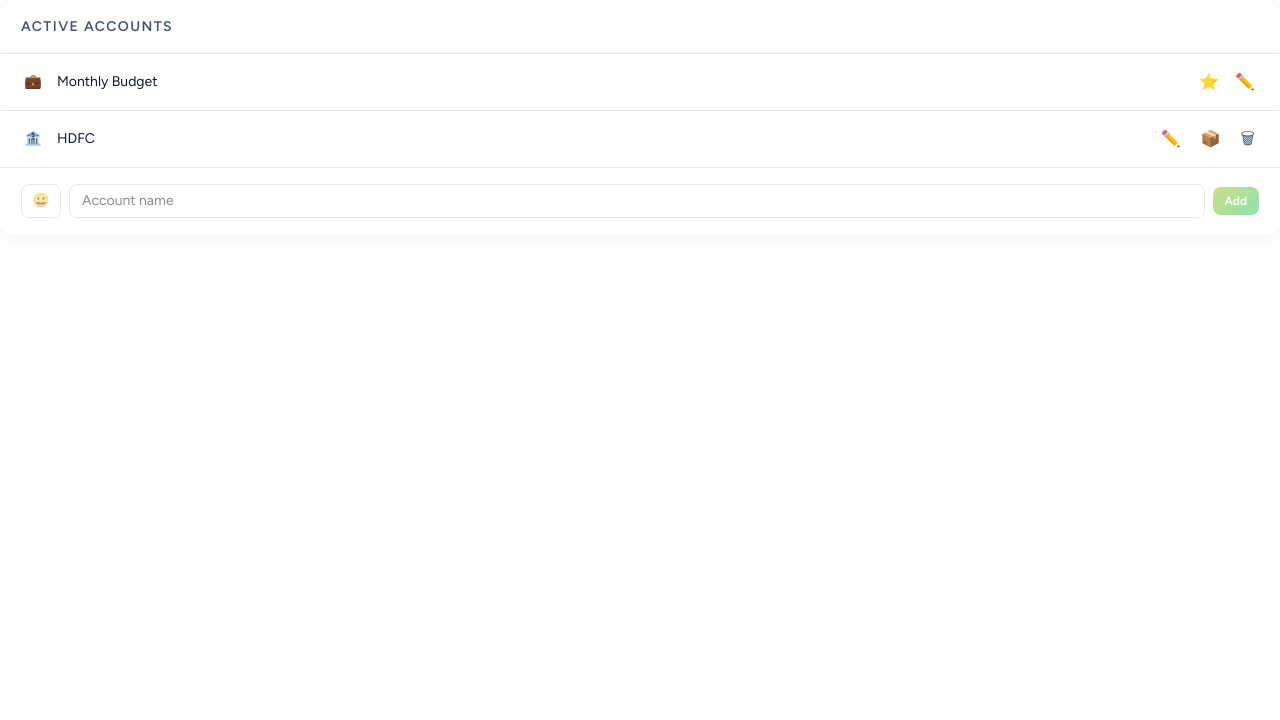
Test: AccountsTab — rename modal › does NOT show rename modal when only emoji changes
The image size is (1280, 720).
Click the button named "Edit HDFC".
click(1171, 139)  # box [1157,123,1185,155]
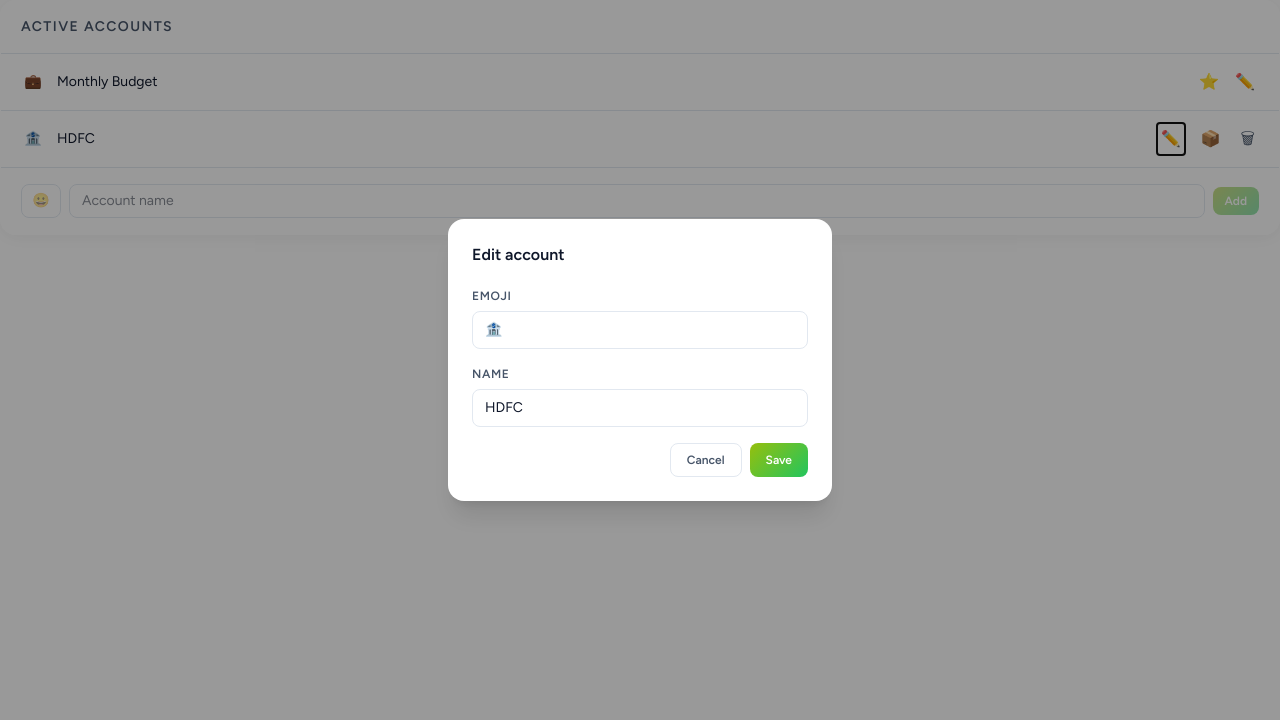
Replace the text in the field named "Emoji" with "💰" at (640, 330), box [472,311,808,349]
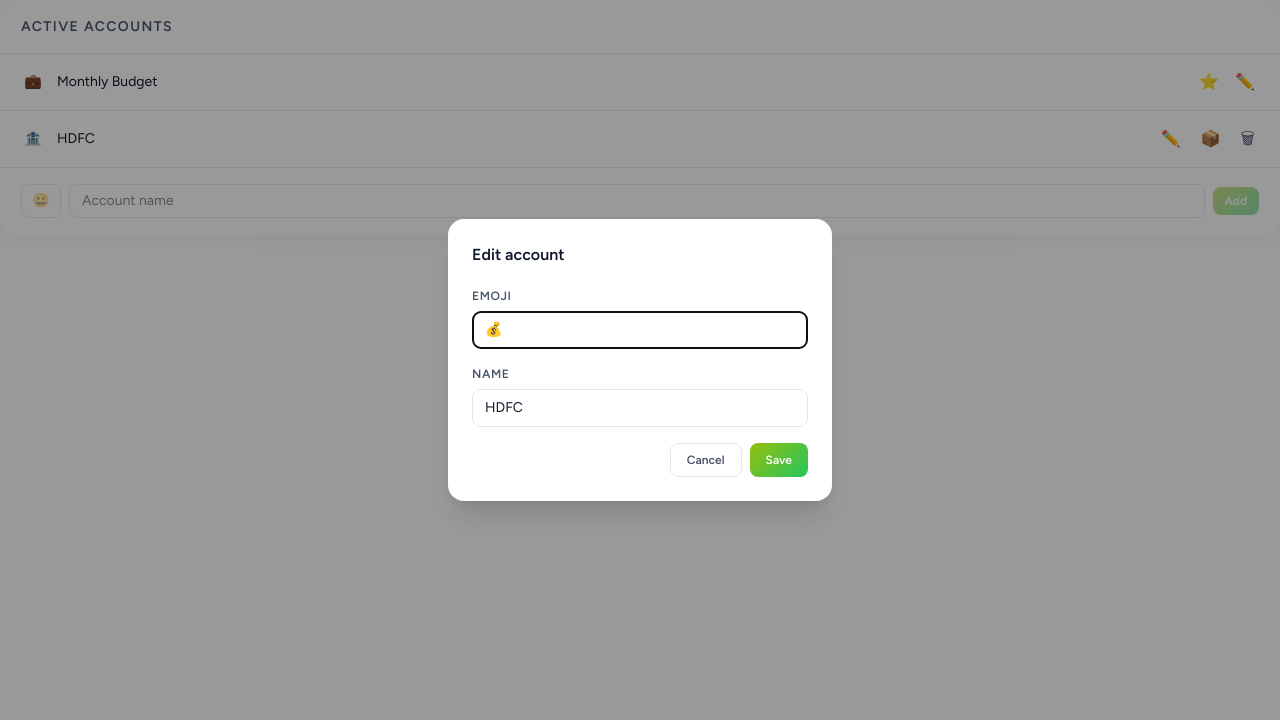
Click the button "Save".
click(779, 460)  # box [750,443,808,477]
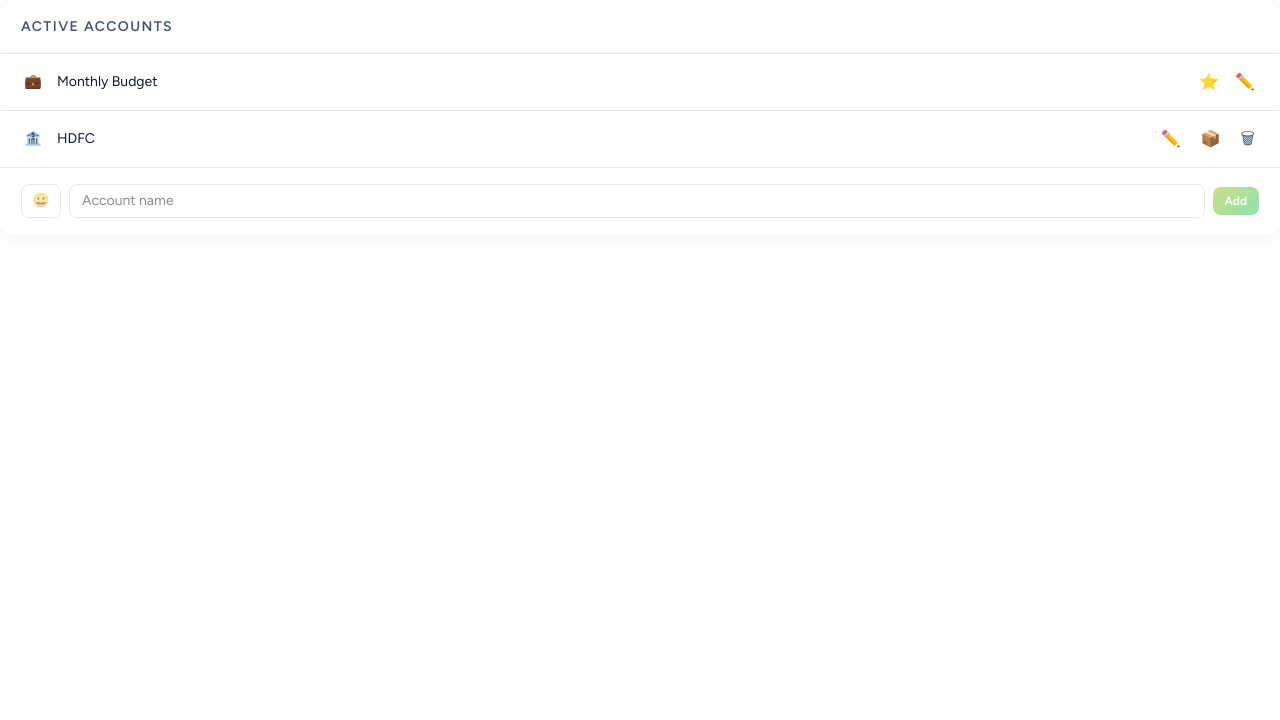
Result: the dialog is gone
